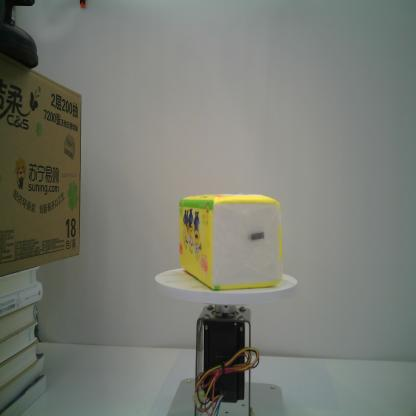Tissue: (179, 192, 284, 290)
